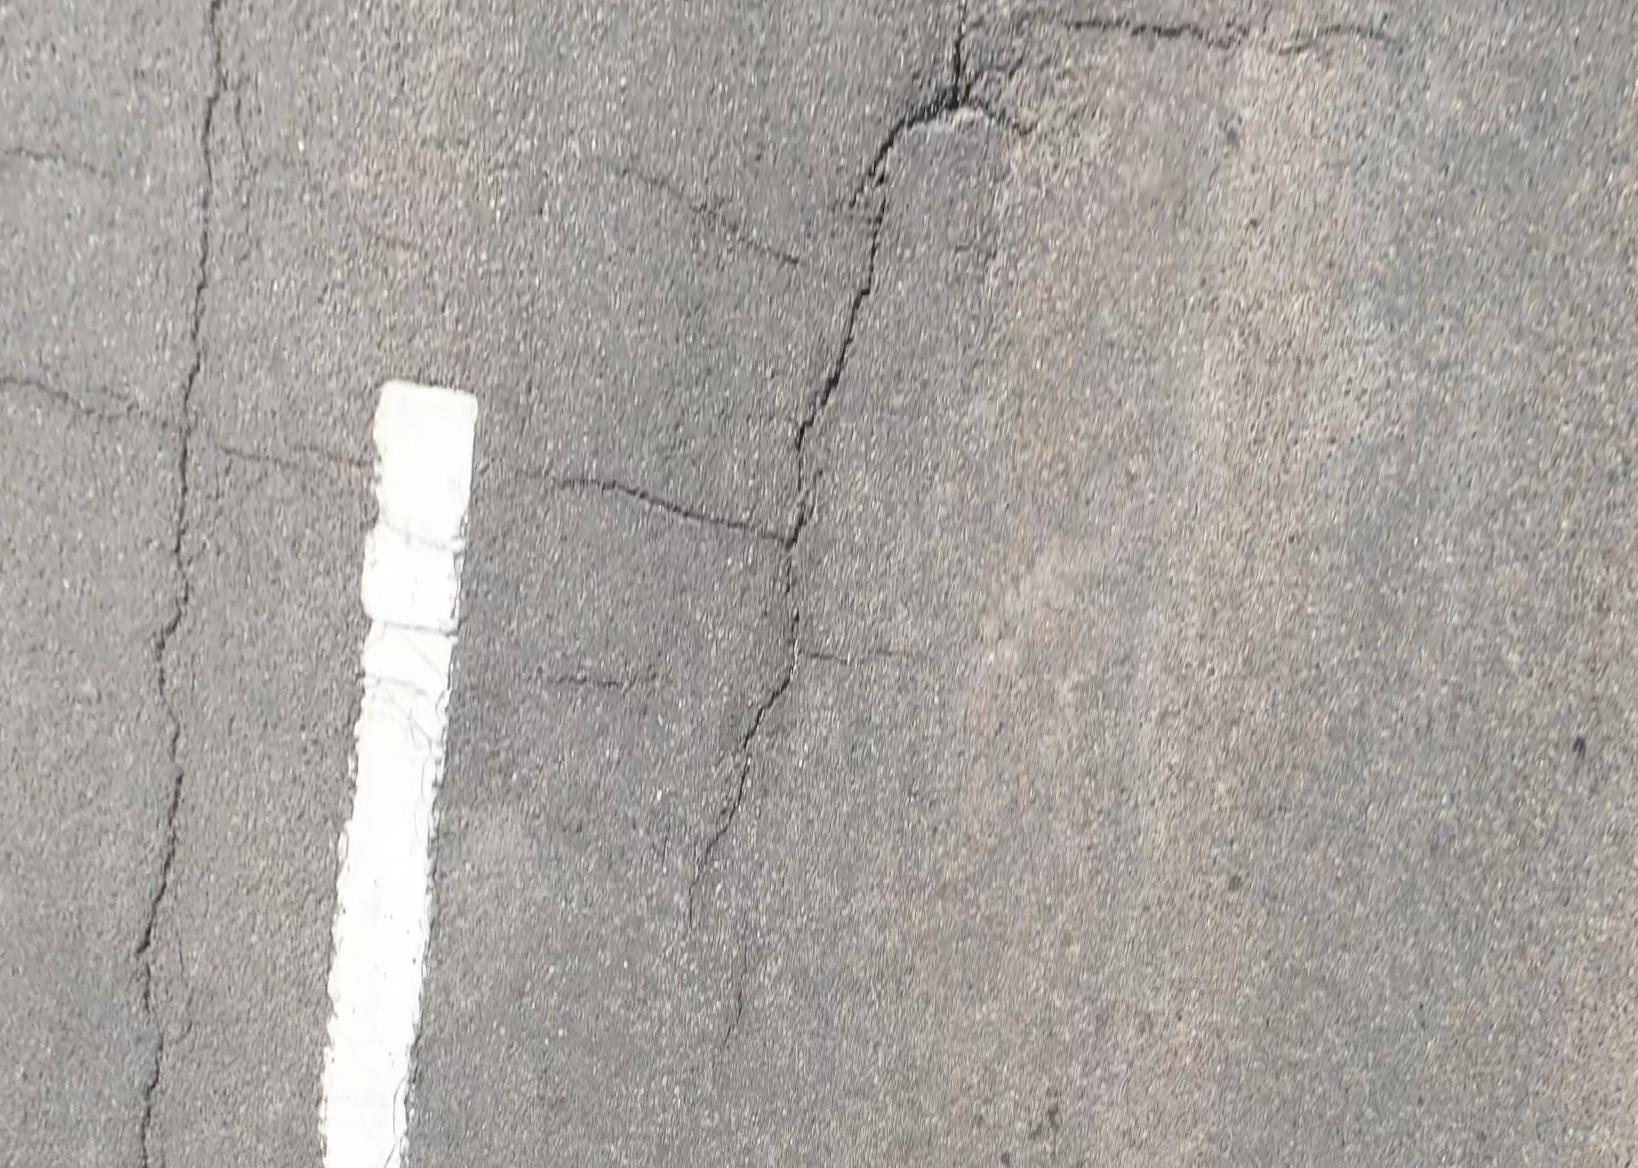pothole: (913, 32, 992, 125)
